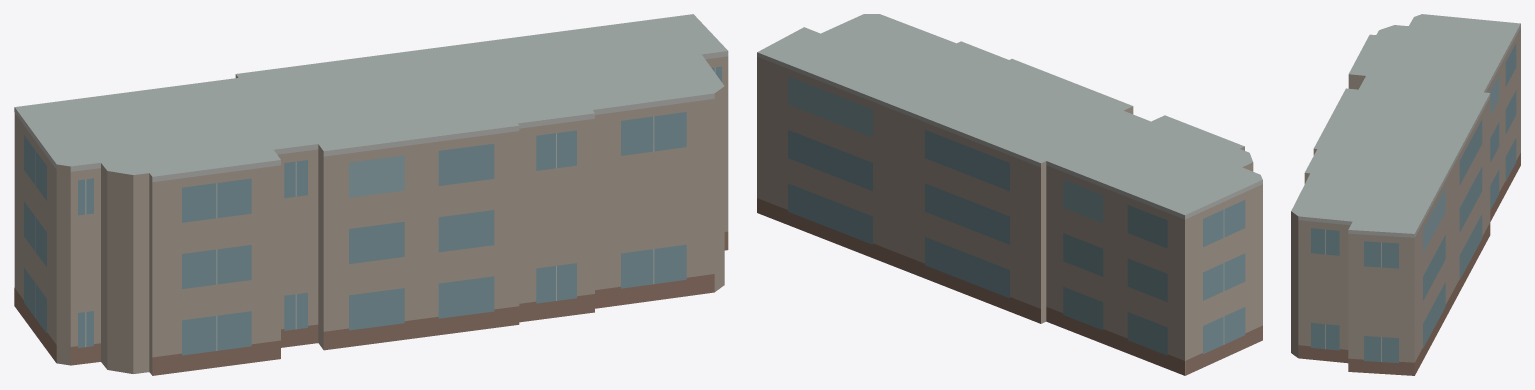
Rendered from survey-upis-32557689.glb.
3 renders of one model, left to right at view 1: azimuth 30°, elevation 25°; view 2: azimuth 150°, elevation 25°; view 3: azimuth 270°, elevation 25°, orthographic. The views are drawn at different scales.
Parts seen in each view (by area): view 1: survey-upis-32557689.tmp; view 2: survey-upis-32557689.tmp; view 3: survey-upis-32557689.tmp.
Part boxes in pixels (x1,y1,x2,y2): survey-upis-32557689.tmp: (14,14,728,375); survey-upis-32557689.tmp: (757,14,1262,375); survey-upis-32557689.tmp: (1291,14,1520,375).
Size of the model in its own units: 30.16 by 9.07 by 13.32.
